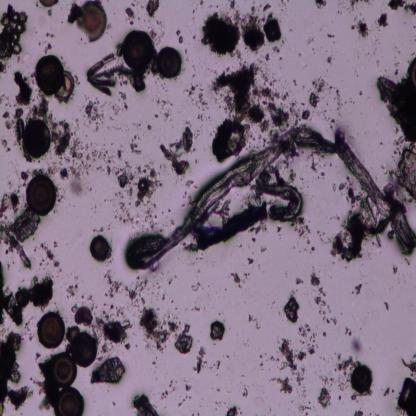Background material: (327, 188, 391, 264), (0, 266, 54, 324), (138, 303, 196, 356), (272, 325, 315, 395), (375, 73, 416, 144), (210, 61, 257, 119), (0, 331, 32, 413), (0, 212, 42, 269), (200, 9, 242, 60), (210, 117, 253, 164), (242, 3, 283, 52), (251, 81, 290, 130), (384, 143, 416, 202), (160, 125, 195, 177), (318, 356, 353, 408), (118, 162, 159, 206), (74, 140, 124, 176), (96, 304, 132, 352), (102, 270, 148, 304), (311, 272, 339, 326), (113, 205, 163, 234), (0, 3, 26, 57), (32, 358, 58, 410), (396, 348, 416, 415), (89, 354, 126, 386), (0, 109, 26, 146), (12, 67, 35, 104), (70, 298, 96, 329), (52, 119, 74, 155), (306, 148, 329, 180), (27, 94, 54, 120), (81, 98, 106, 126), (132, 392, 160, 415), (292, 216, 312, 246), (41, 240, 61, 270), (176, 377, 198, 404), (255, 52, 274, 83), (308, 77, 326, 108), (154, 92, 173, 121), (189, 86, 208, 114), (208, 314, 226, 342), (69, 180, 95, 199), (350, 18, 372, 40), (111, 90, 130, 115), (0, 192, 20, 214), (286, 296, 301, 324), (388, 1, 416, 16), (193, 346, 207, 376), (38, 33, 56, 54), (51, 163, 72, 181), (228, 269, 248, 286), (129, 134, 143, 154), (376, 10, 389, 29), (147, 0, 160, 19), (162, 377, 173, 399), (247, 314, 262, 330), (350, 336, 364, 353), (67, 325, 81, 342), (66, 283, 80, 299), (0, 90, 13, 107), (348, 0, 368, 11), (124, 7, 134, 29), (334, 90, 342, 115), (240, 383, 251, 400), (351, 284, 364, 298), (18, 171, 30, 186), (191, 279, 203, 293), (304, 32, 318, 44), (0, 58, 9, 75), (314, 0, 329, 10), (293, 275, 305, 287), (211, 358, 223, 370), (176, 29, 184, 45), (326, 28, 336, 40), (301, 109, 310, 122), (228, 406, 238, 416), (382, 386, 392, 396), (352, 408, 364, 416), (185, 178, 195, 187), (357, 88, 365, 97), (247, 256, 254, 266), (345, 327, 352, 336), (326, 55, 332, 65), (392, 265, 399, 273), (384, 300, 389, 311)
Cellulose filter fibre: (125, 126, 416, 272), (256, 178, 305, 226)
Cotton: (193, 201, 267, 251)
Diatom: (88, 54, 134, 94), (122, 28, 154, 72), (27, 173, 57, 214), (76, 2, 108, 40), (35, 56, 66, 94), (23, 122, 52, 158), (38, 310, 65, 347), (51, 350, 77, 386), (73, 332, 98, 366), (156, 48, 183, 79), (56, 386, 84, 415), (351, 363, 374, 394), (89, 234, 111, 262), (57, 72, 76, 99), (407, 55, 416, 88), (40, 0, 60, 8)
